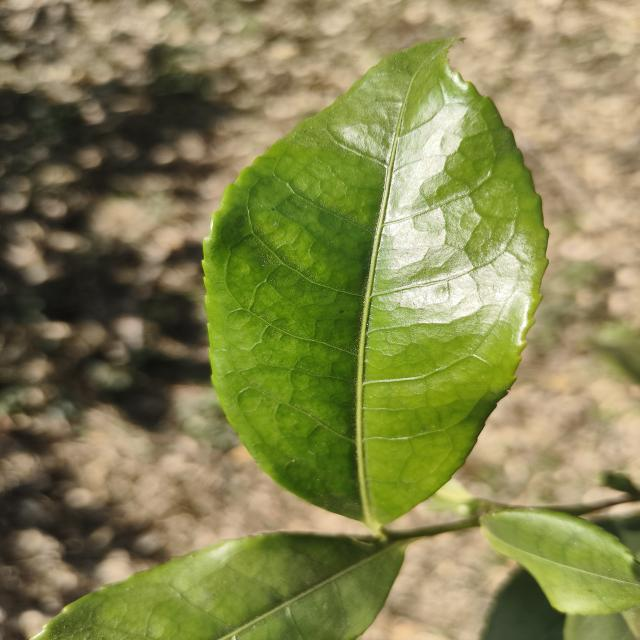Leaf: (204, 39, 546, 529), (36, 532, 405, 640), (481, 509, 640, 615)
